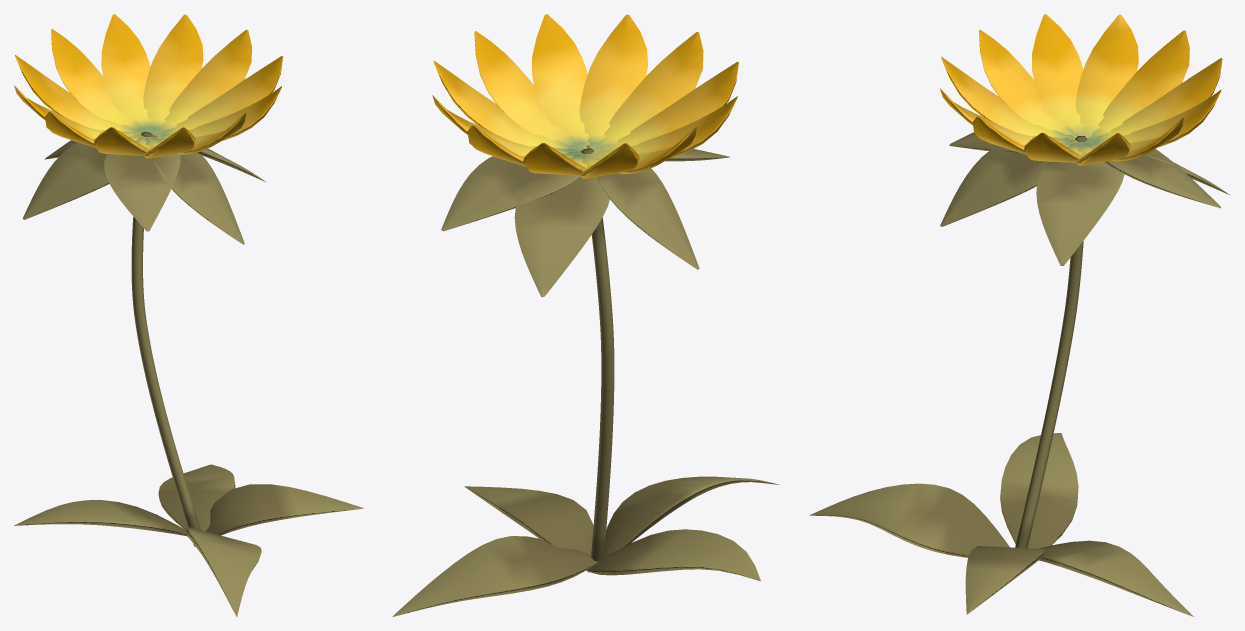
Rendered from flower04.obj.
The picture shows the model from 3 angles, left to right: view 1: azimuth 30°, elevation 25°; view 2: azimuth 150°, elevation 25°; view 3: azimuth 270°, elevation 25°; orthographic projection. The views are drawn at different scales.
Visible parts, largest first — view 1: Tube_2; view 2: Tube_2; view 3: Tube_2.
Boxes of the visible parts, left/top/right/bottom form: Tube_2: left=14, top=14, right=363, bottom=616; Tube_2: left=392, top=14, right=779, bottom=616; Tube_2: left=809, top=14, right=1229, bottom=616.
Size of the model in its own units: 1.43 by 2.06 by 1.63.
Materials: 1 (1 with a texture image).
